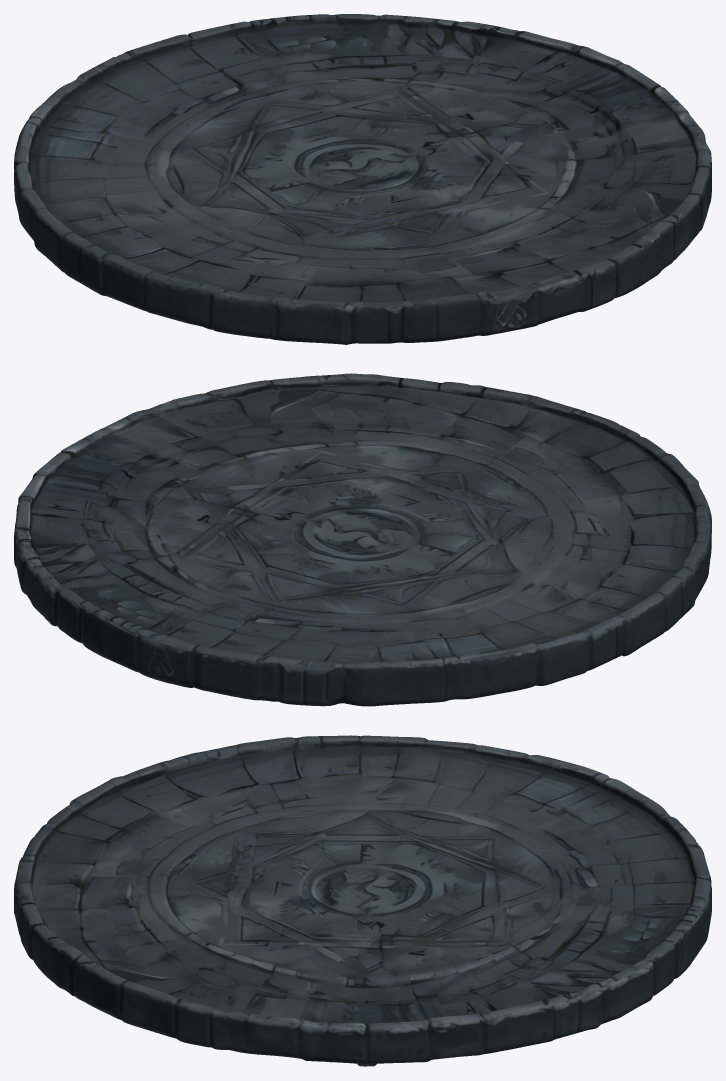
The model's file is Stage.gltf.
The picture shows the model from 3 angles, top to bottom: view 1: azimuth 30°, elevation 25°; view 2: azimuth 150°, elevation 25°; view 3: azimuth 270°, elevation 25°; orthographic projection.
Parts seen in each view (by area): view 1: tripo_node_8b45173f-e689-41c1-9f51-dc772d667835; view 2: tripo_node_8b45173f-e689-41c1-9f51-dc772d667835; view 3: tripo_node_8b45173f-e689-41c1-9f51-dc772d667835.
Boxes of the visible parts, x1,y1,x2,y2 form: tripo_node_8b45173f-e689-41c1-9f51-dc772d667835: [14, 14, 711, 344]; tripo_node_8b45173f-e689-41c1-9f51-dc772d667835: [14, 373, 711, 706]; tripo_node_8b45173f-e689-41c1-9f51-dc772d667835: [14, 735, 711, 1066].
Bounding box in the file's own units: 99.99 × 27.69 × 100.
Materials: 1 (1 with a texture image).
